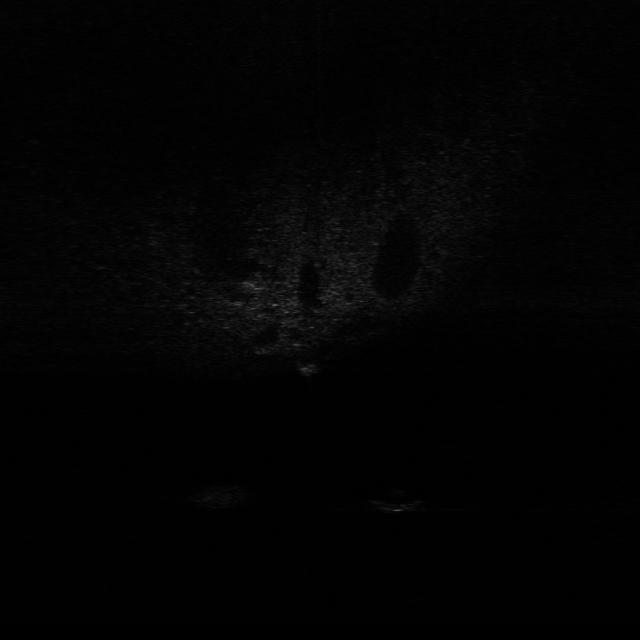ball: (376, 483, 426, 514)
circle cage: (193, 477, 254, 512)
cube: (297, 358, 328, 378)
